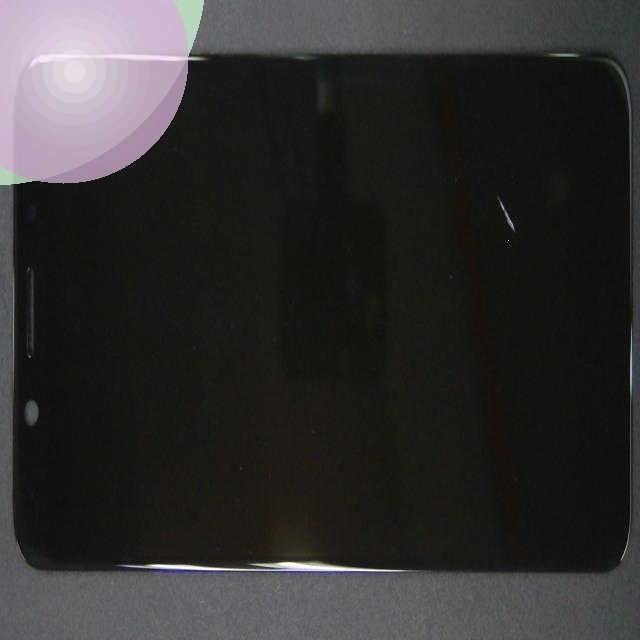scratch: (239, 76, 640, 326)
